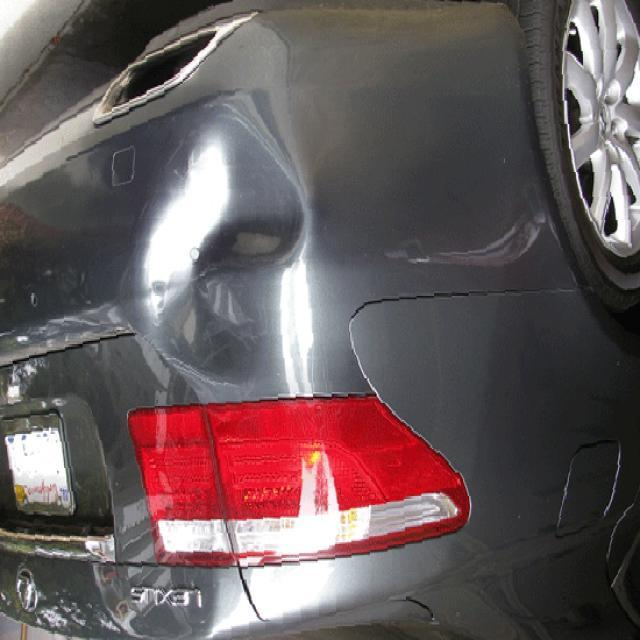dent: (129, 79, 321, 347)
